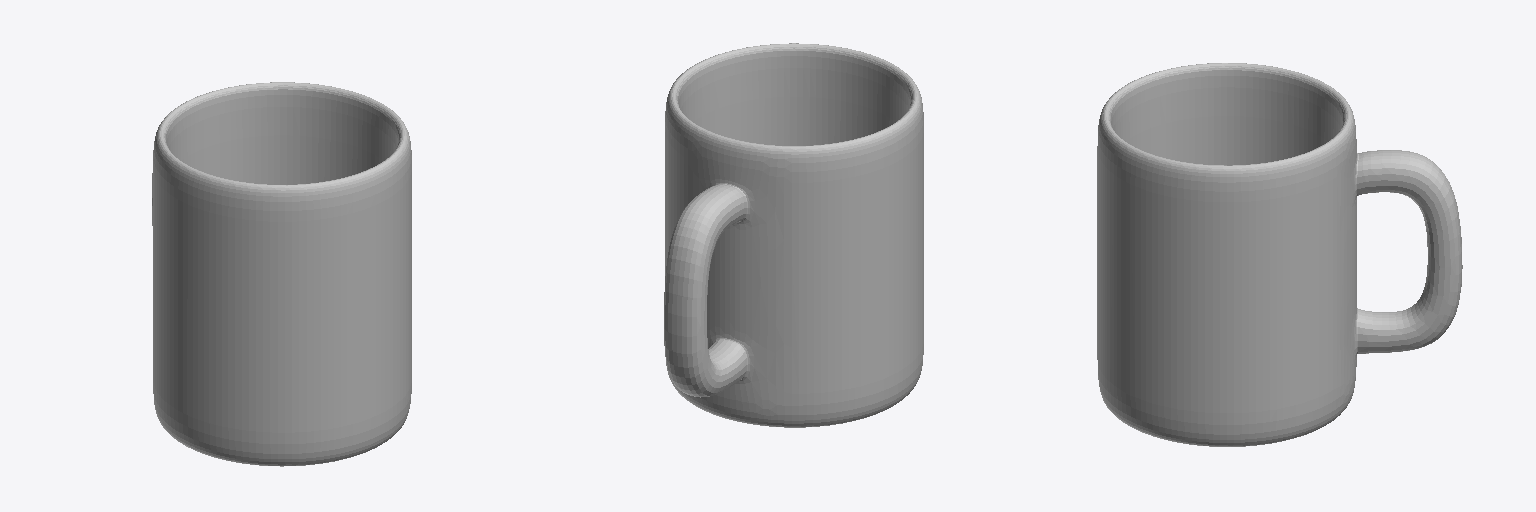
File: mug.obj
The picture shows the model from 3 angles: view 1: azimuth 30°, elevation 25°; view 2: azimuth 150°, elevation 25°; view 3: azimuth 270°, elevation 25°; orthographic projection.
Visible parts, largest first — view 1: Cylinder01; view 2: Cylinder01; view 3: Cylinder01.
Part boxes in pixels (left/top/right/bottom): Cylinder01: left=152, top=82, right=411, bottom=466; Cylinder01: left=664, top=43, right=923, bottom=427; Cylinder01: left=1097, top=63, right=1462, bottom=446.
Bounding box in the file's own units: 23.5 × 28.32 × 33.11.